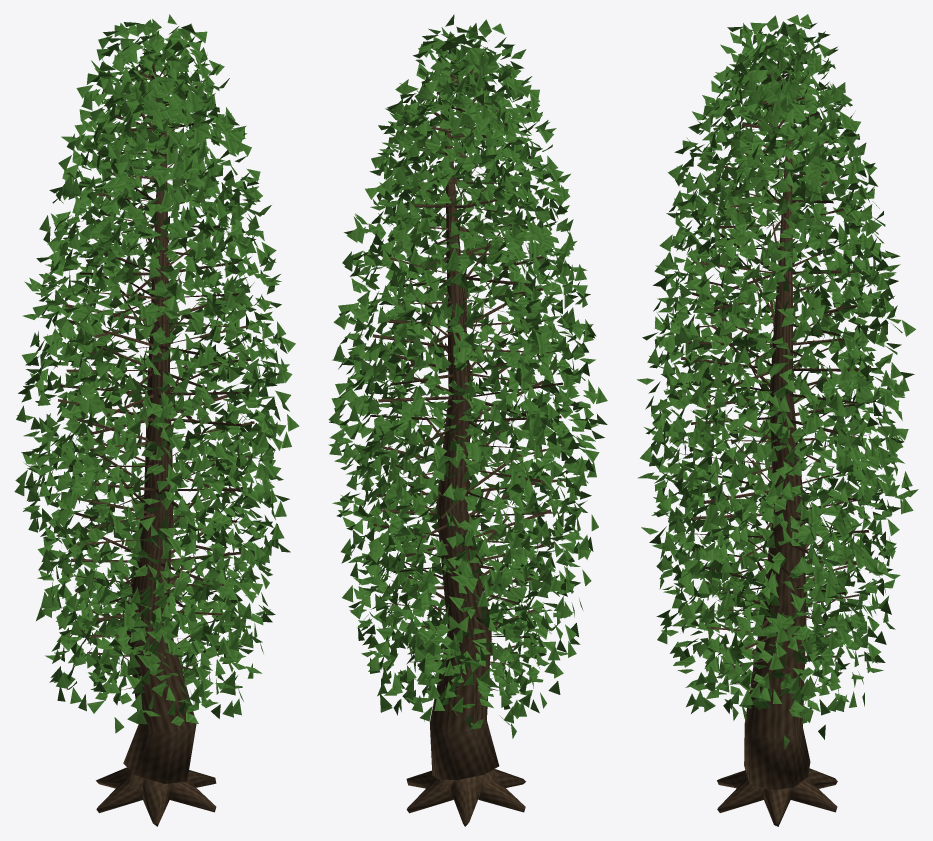
File: cypress_tree.glb
3 views of the same model, side by side, from view 1: azimuth 30°, elevation 25°; view 2: azimuth 150°, elevation 25°; view 3: azimuth 270°, elevation 25° (orthographic).
Visible parts, largest first — view 1: cypress_tree_Foliage.001, cypress_tree_Branches.001; view 2: cypress_tree_Foliage.001, cypress_tree_Branches.001; view 3: cypress_tree_Foliage.001, cypress_tree_Branches.001.
Boxes of the visible parts, box(x1,y1,x2,y2) form: cypress_tree_Foliage.001: box(14, 14, 299, 733); cypress_tree_Branches.001: box(58, 64, 254, 826); cypress_tree_Foliage.001: box(328, 14, 607, 738); cypress_tree_Branches.001: box(368, 67, 563, 826); cypress_tree_Foliage.001: box(637, 14, 918, 749); cypress_tree_Branches.001: box(679, 61, 875, 826).
Bounding box in the file's own units: 2.33 × 7.1 × 2.34.
2 materials, 2 textured.
